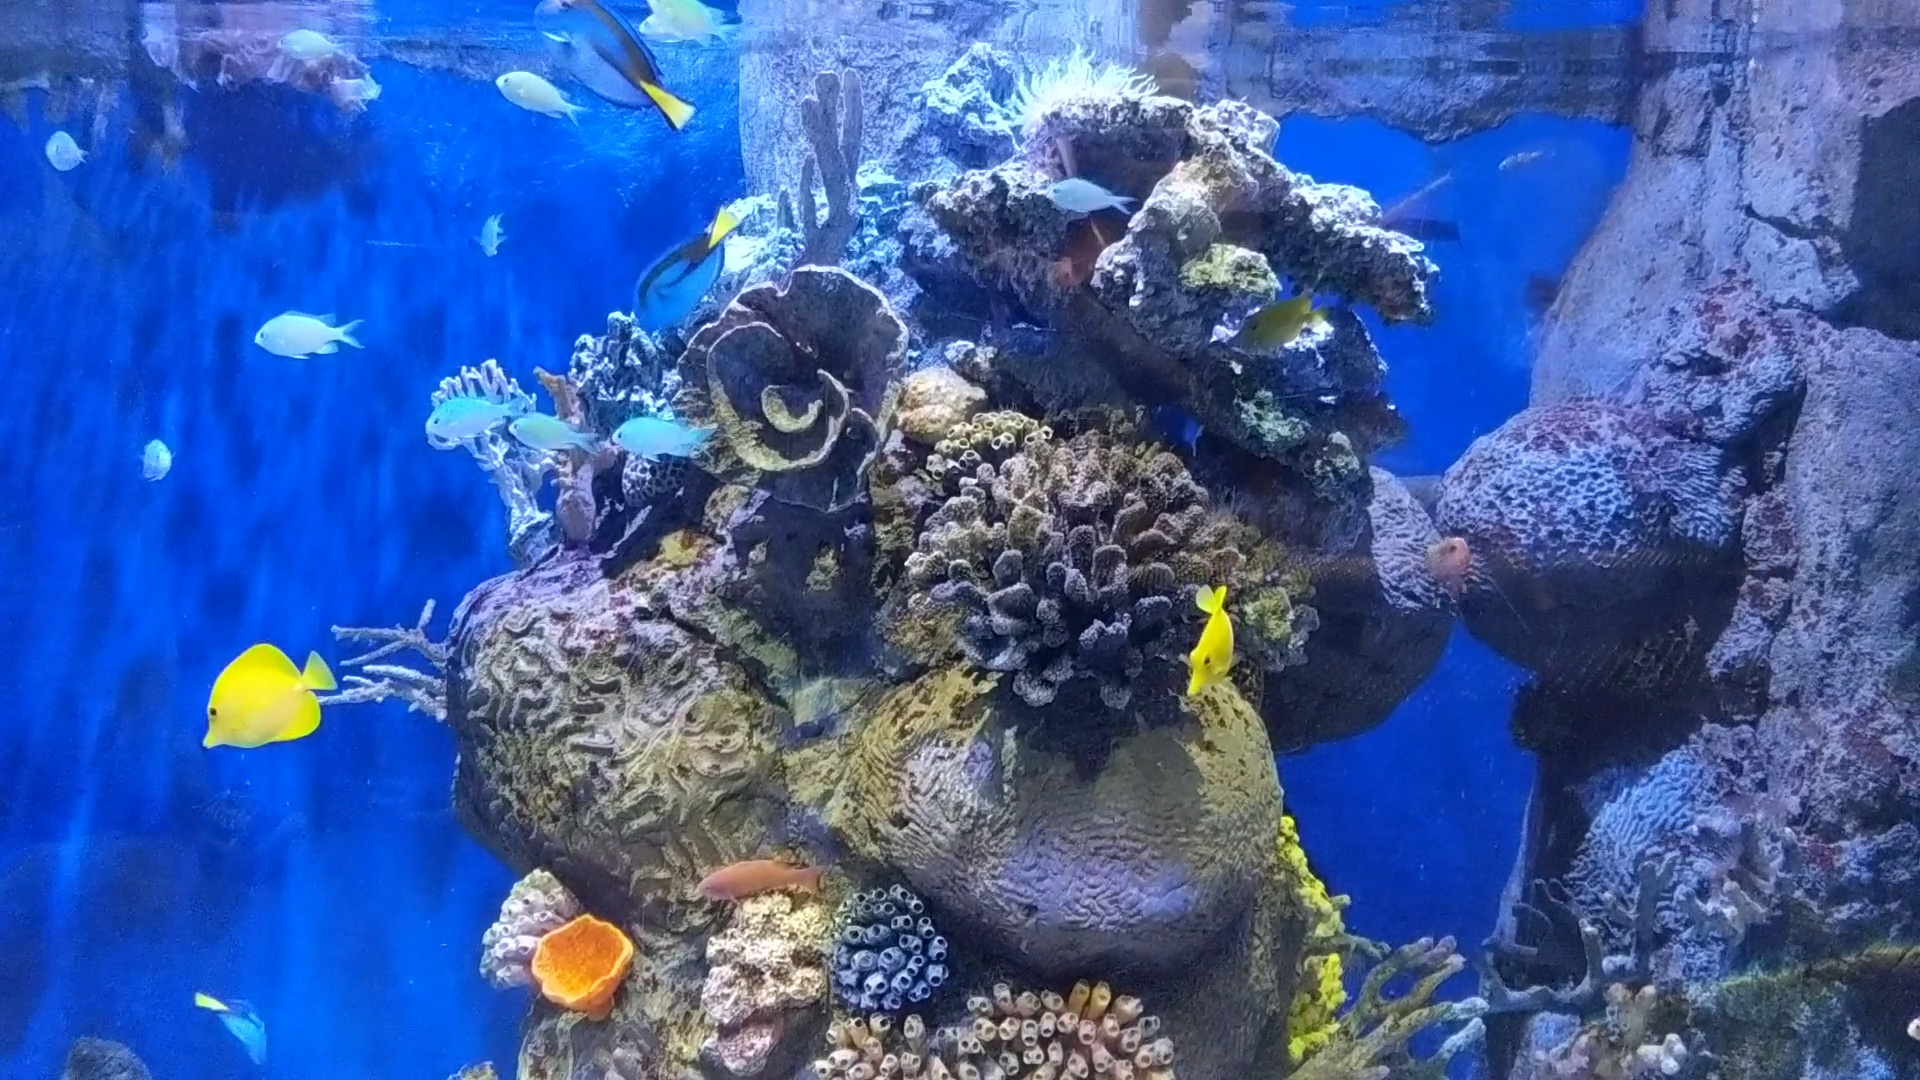blue tang surgeonfish: (535, 1, 691, 137), (615, 207, 753, 336), (171, 975, 294, 1075)
damselfish: (415, 367, 527, 462), (607, 406, 727, 488), (498, 390, 612, 473), (1019, 164, 1143, 237), (248, 298, 371, 371), (483, 53, 580, 129), (640, 1, 737, 55), (115, 426, 185, 500), (36, 115, 94, 183), (465, 203, 508, 265)
pink fish: (1400, 527, 1490, 636)
saddle butterfly fish: (171, 628, 357, 771), (1174, 562, 1254, 712), (1225, 274, 1320, 372)
